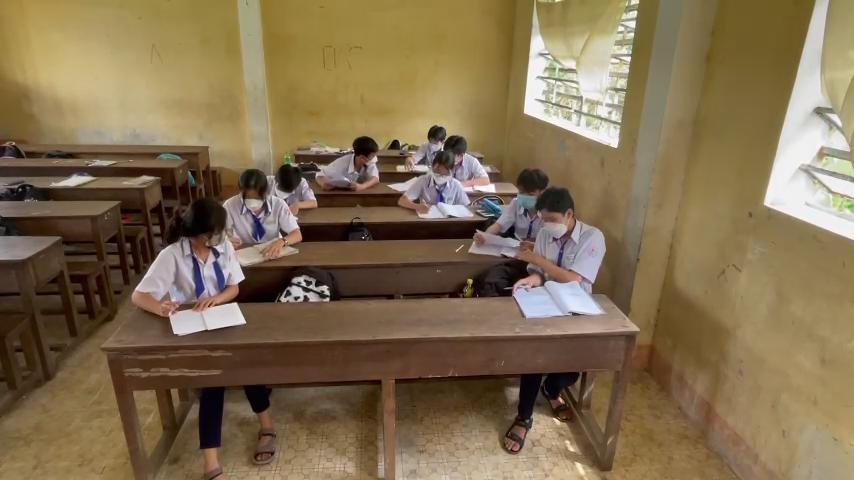Hand Under Table: (448, 174, 471, 213)
Look Around: (165, 192, 232, 249), (316, 123, 383, 180), (318, 126, 385, 182)
